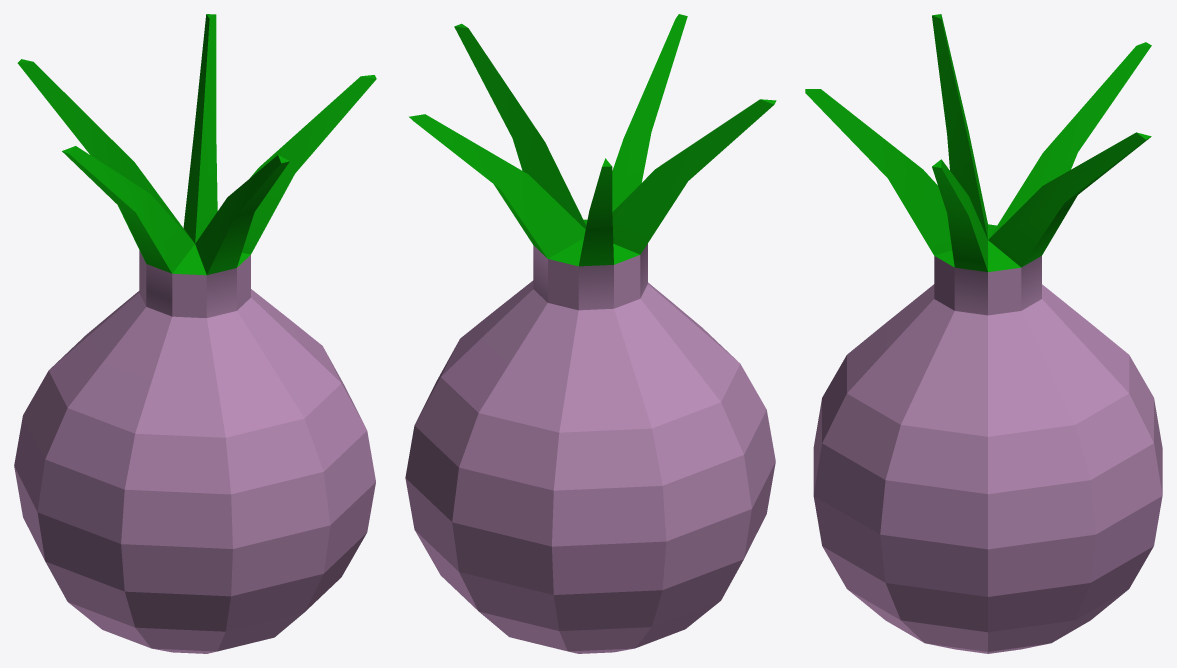
File: Cebolla.fbx
The picture shows the model from 3 angles, left to right: view 1: azimuth 30°, elevation 25°; view 2: azimuth 150°, elevation 25°; view 3: azimuth 270°, elevation 25°; orthographic projection. The views are drawn at different scales.
Visible parts, largest first — view 1: pSphere3; view 2: pSphere3; view 3: pSphere3.
Boxes of the visible parts, bbox=[...] form: pSphere3: bbox=[14, 14, 376, 653]; pSphere3: bbox=[405, 14, 776, 653]; pSphere3: bbox=[805, 14, 1162, 653].
Bounding box in the file's own units: 2 × 3.3 × 1.95.
